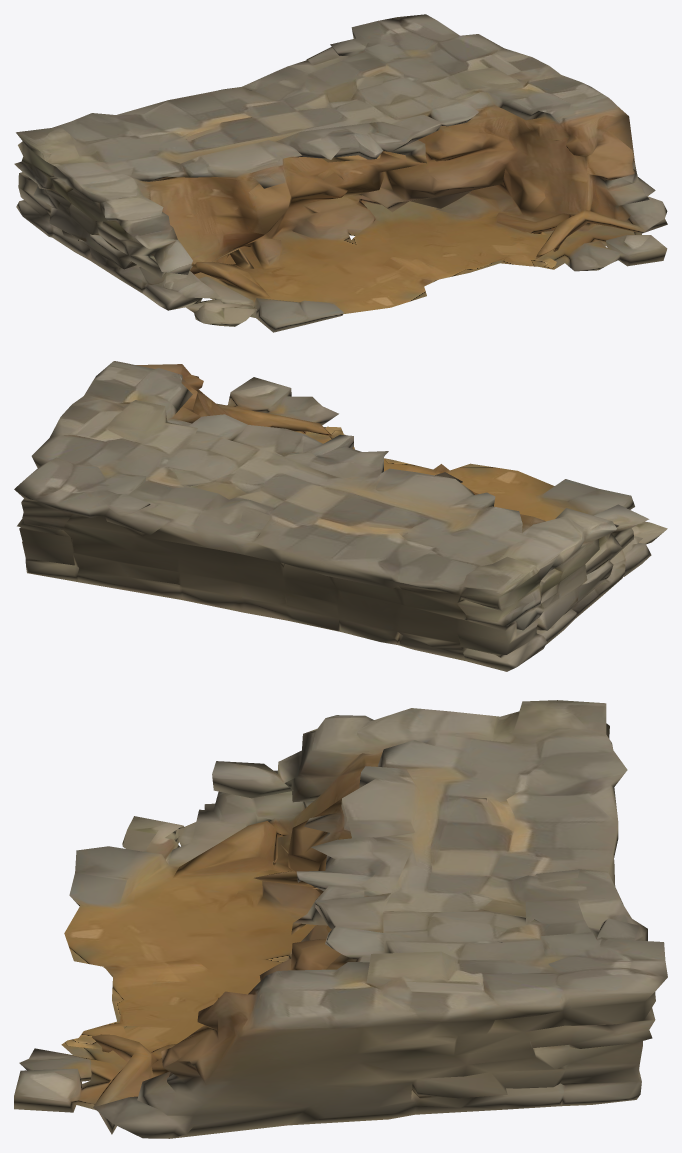
The model's file is tripo_crumbled_pit_rim.glb.
3 renders of one model, top to bottom at view 1: azimuth 30°, elevation 25°; view 2: azimuth 150°, elevation 25°; view 3: azimuth 270°, elevation 25°, orthographic. The views are drawn at different scales.
Visible parts, largest first — view 1: crumbled_pit_rim; view 2: crumbled_pit_rim; view 3: crumbled_pit_rim.
Part boxes in pixels (box(x1,y1,x2,y2)): crumbled_pit_rim: box(14, 14, 667, 332); crumbled_pit_rim: box(14, 361, 667, 671); crumbled_pit_rim: box(14, 700, 667, 1138).
Bounding box in the file's own units: 4 × 0.7 × 3.3.
1 material, 1 textured.
